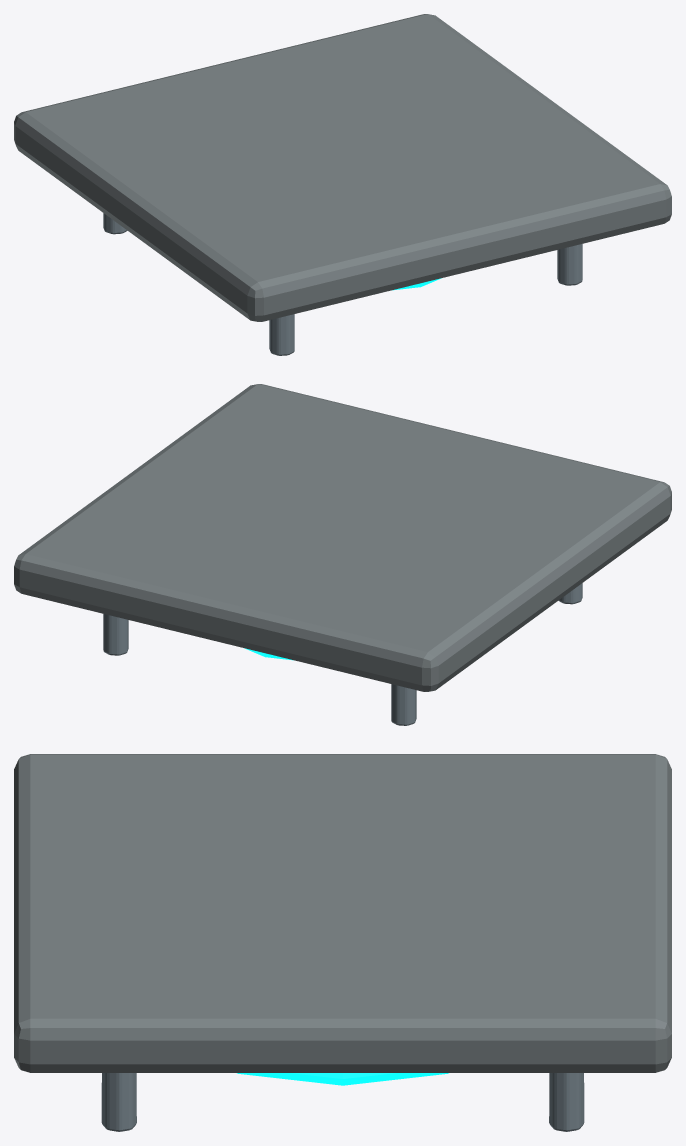
Rendered from Ceiling-Module.glb.
3 views of the same model, one above another, from view 1: azimuth 30°, elevation 25°; view 2: azimuth 150°, elevation 25°; view 3: azimuth 270°, elevation 25° (orthographic). The views are drawn at different scales.
Visible parts, largest first — view 1: Ceiling_Slab, Ceiling_Hanger.001, Ceiling_Hanger; view 2: Ceiling_Slab, Ceiling_Hanger.003, Ceiling_Hanger.002; view 3: Ceiling_Slab, Ceiling_Hanger.001, Ceiling_Hanger.003, Ceiling_CyanRing.
Boxes of the visible parts, bbox=[...] form: Ceiling_Slab: bbox=[14, 14, 671, 321]; Ceiling_Hanger.001: bbox=[557, 244, 582, 285]; Ceiling_Hanger: bbox=[269, 314, 294, 355]; Ceiling_Slab: bbox=[14, 384, 671, 691]; Ceiling_Hanger.003: bbox=[103, 614, 128, 655]; Ceiling_Hanger.002: bbox=[391, 684, 416, 725]; Ceiling_Slab: bbox=[14, 754, 671, 1072]; Ceiling_Hanger.001: bbox=[101, 1073, 136, 1131]; Ceiling_Hanger.003: bbox=[549, 1073, 584, 1131]; Ceiling_CyanRing: bbox=[237, 1073, 448, 1085].
Bounding box in the file's own units: 2 × 0.485 × 2.
